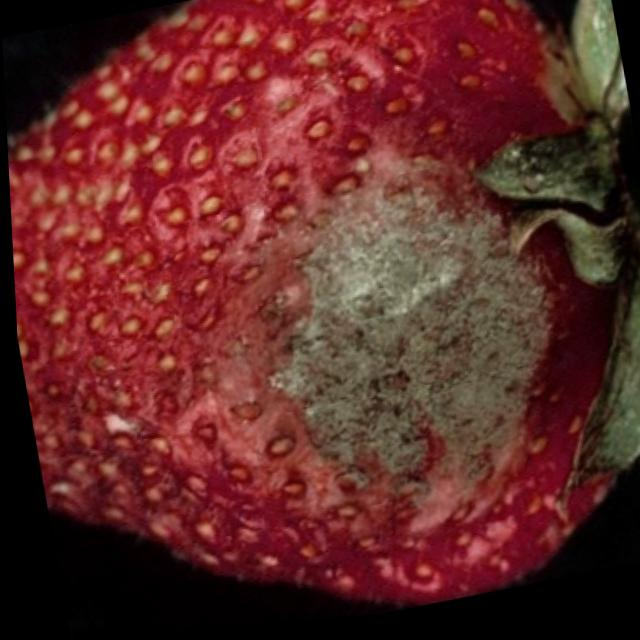Gray Mold: (120, 119, 564, 550)
